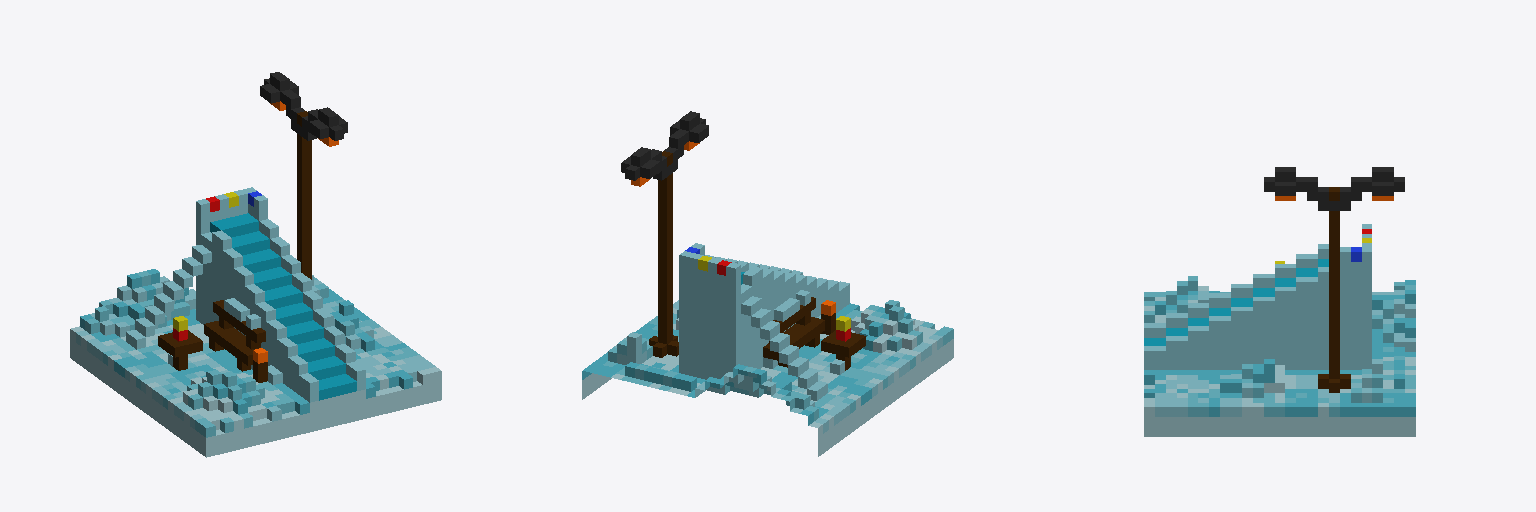
3 renders of one model, left to right at view 1: azimuth 30°, elevation 25°; view 2: azimuth 150°, elevation 25°; view 3: azimuth 270°, elevation 25°, orthographic.
Visible parts, largest first — view 1: Sklon2_04:Mesh; view 2: Sklon2_04:Mesh; view 3: Sklon2_04:Mesh.
Part boxes in pixels (x1,y1,x2,y2): Sklon2_04:Mesh: (70,72,441,457); Sklon2_04:Mesh: (582,111,953,456); Sklon2_04:Mesh: (1144,167,1415,436).
Bounding box in the file's own units: 4 × 4 × 4.
1 materials, 1 textured.